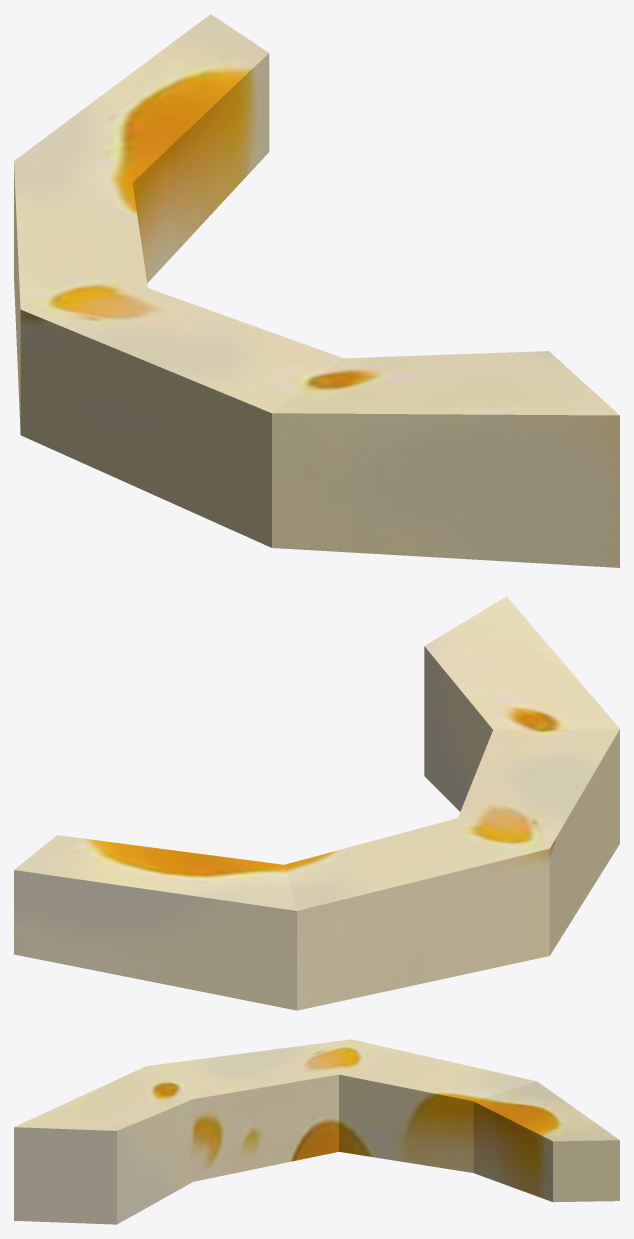
The model's file is CheeseFlake3.fbx.
The picture shows the model from 3 angles, top to bottom: view 1: azimuth 30°, elevation 25°; view 2: azimuth 150°, elevation 25°; view 3: azimuth 270°, elevation 25°; orthographic projection. The views are drawn at different scales.
Parts seen in each view (by area): view 1: CheeseFlake3; view 2: CheeseFlake3; view 3: CheeseFlake3.
Boxes of the visible parts, x1,y1,x2,y2 form: CheeseFlake3: [14, 14, 619, 567]; CheeseFlake3: [14, 596, 619, 1010]; CheeseFlake3: [14, 1039, 619, 1224].
Bounding box in the file's own units: 3.6 × 1.43 × 7.44.
1 material, 1 textured.
